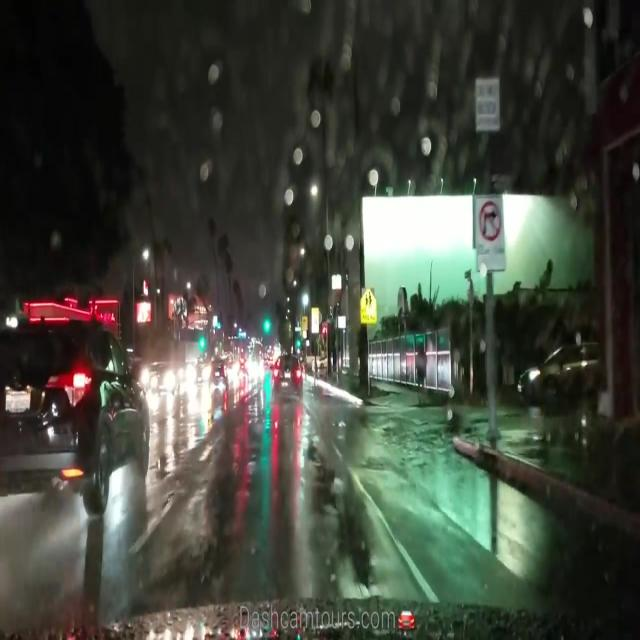Car: (8, 322, 147, 512), (517, 341, 599, 402), (270, 352, 301, 398)
